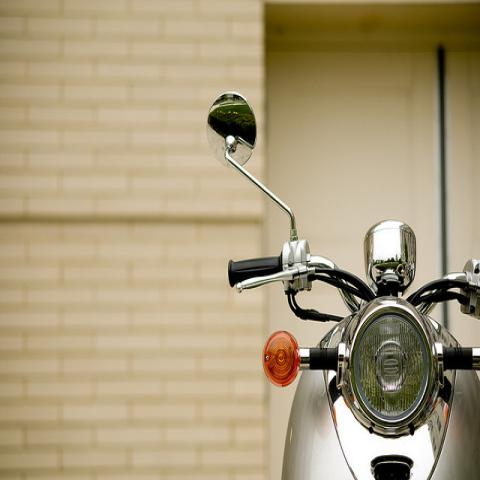motorcycle: (206, 86, 480, 475)
